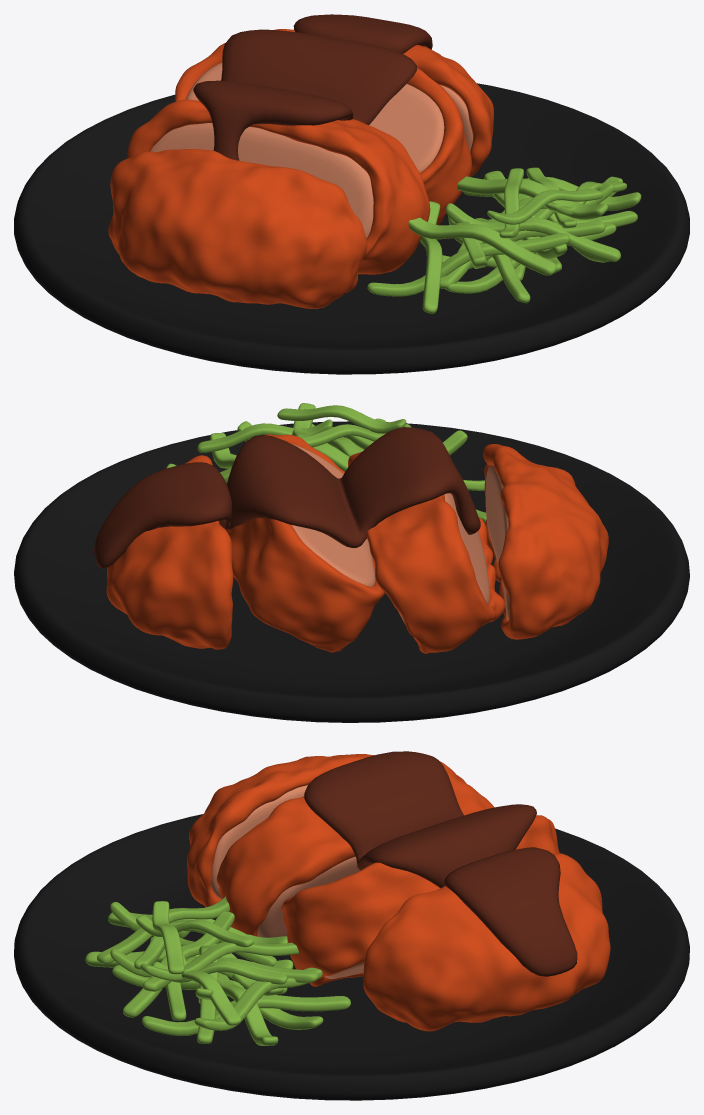
3 renders of one model, top to bottom at view 1: azimuth 30°, elevation 25°; view 2: azimuth 150°, elevation 25°; view 3: azimuth 270°, elevation 25°, orthographic.
Visible parts, largest first — view 1: Circle.014, Cube.022, Plane.030, Cube.023, Cube.019, Cube.024, Cube.020, Cube.021, Plane.027, Plane.023, Plane.013, Plane.026 (+11 smaller); view 2: Circle.014, Plane.030, Cube.022, Cube.023, Cube.021, Cube.024, Cube.020, Cube.018, Plane.029, Plane.015, Cube.019, Plane.028 (+1 smaller); view 3: Circle.014, Plane.030, Cube.021, Cube.024, Cube.023, Cube.022, Plane.007, Plane.026, Cube.019, Cube.018, Plane.027, Plane.012 (+15 smaller).
Boxes of the visible parts, bbox=[...] form: Circle.014: bbox=[14, 83, 689, 374]; Cube.022: bbox=[108, 149, 367, 308]; Plane.030: bbox=[193, 14, 432, 160]; Cube.023: bbox=[127, 99, 430, 274]; Cube.019: bbox=[150, 123, 373, 238]; Cube.024: bbox=[175, 43, 471, 224]; Cube.020: bbox=[186, 62, 444, 172]; Cube.021: bbox=[275, 29, 493, 176]; Plane.027: bbox=[408, 217, 556, 275]; Plane.023: bbox=[367, 233, 569, 296]; Plane.013: bbox=[445, 203, 620, 261]; Plane.026: bbox=[457, 176, 608, 219]; Circle.014: bbox=[14, 421, 689, 722]; Plane.030: bbox=[94, 427, 480, 568]; Cube.022: bbox=[483, 444, 608, 639]; Cube.023: bbox=[348, 431, 504, 653]; Cube.021: bbox=[106, 455, 233, 649]; Cube.024: bbox=[219, 434, 385, 652]; Cube.020: bbox=[292, 444, 375, 586]; Cube.018: bbox=[485, 465, 508, 620]; Plane.029: bbox=[277, 405, 406, 433]; Plane.015: bbox=[197, 419, 332, 452]; Cube.019: bbox=[398, 493, 489, 638]; Plane.028: bbox=[300, 424, 411, 447]; Circle.014: bbox=[14, 814, 689, 1100]; Plane.030: bbox=[304, 751, 577, 976]; Cube.021: bbox=[363, 853, 610, 1031]; Cube.024: bbox=[281, 815, 559, 986]; Cube.023: bbox=[216, 761, 494, 936]; Cube.022: bbox=[187, 754, 374, 907]; Plane.007: bbox=[142, 995, 350, 1035]; Plane.026: bbox=[140, 942, 298, 980]; Cube.019: bbox=[257, 856, 360, 937]; Cube.018: bbox=[211, 785, 307, 898]; Plane.027: bbox=[97, 896, 229, 963]; Plane.012: bbox=[194, 967, 322, 1030].
Bounding box in the file's own units: 3.29 × 0.9919 × 3.29.
